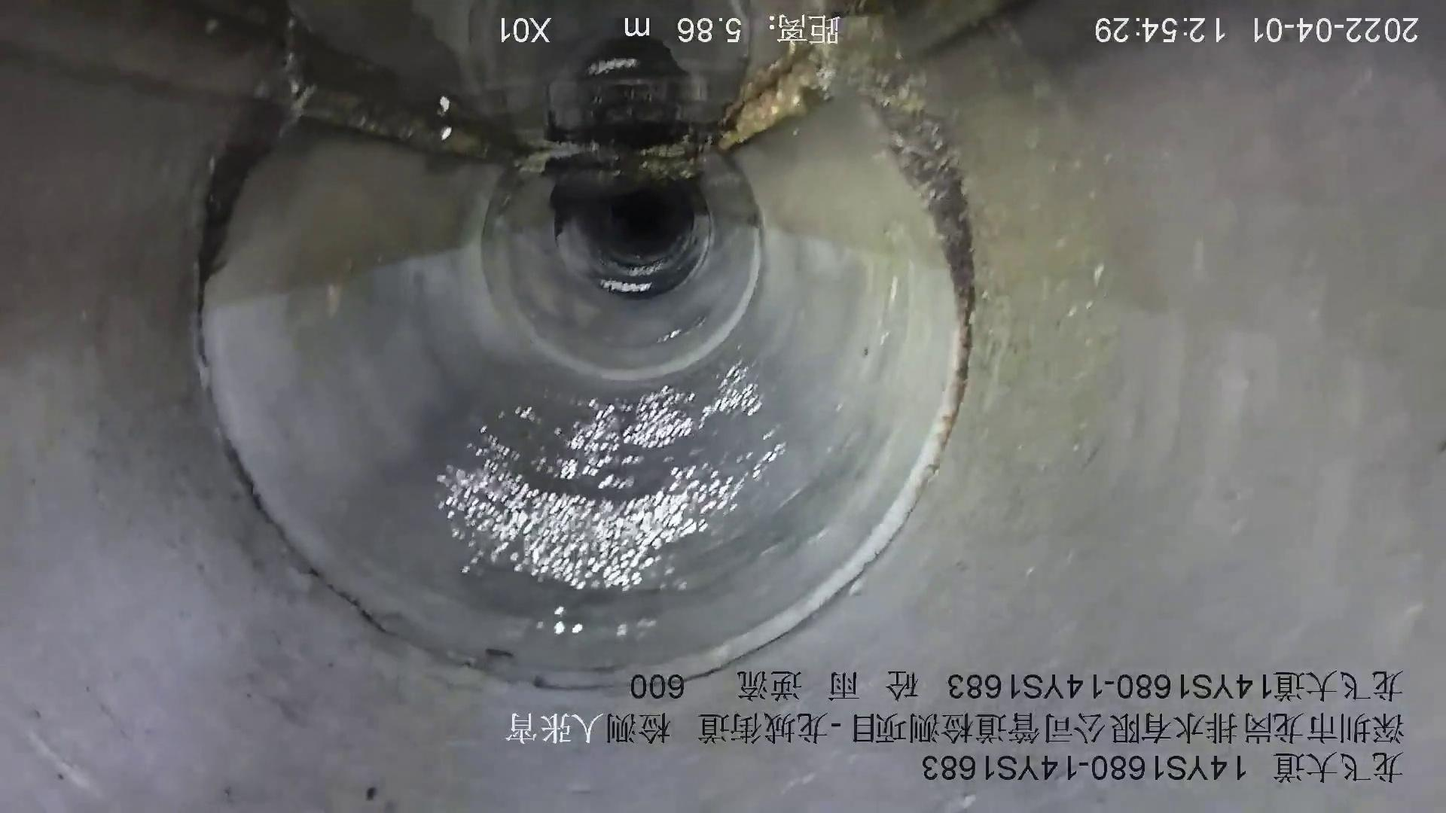CKTJ: (216, 76, 975, 691), (534, 223, 762, 382), (195, 102, 294, 403)
